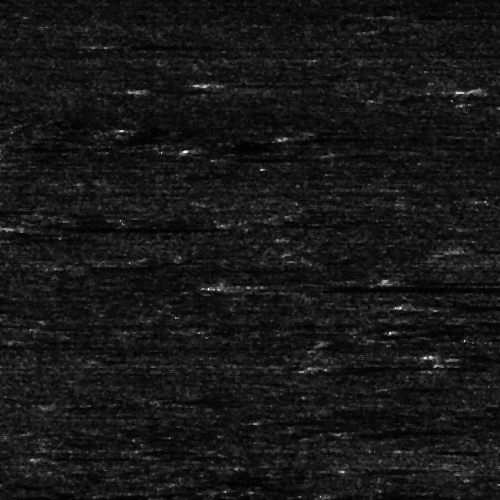object: (114, 137, 301, 156), (178, 282, 293, 291), (367, 300, 460, 311), (416, 244, 500, 253), (0, 219, 65, 230), (172, 78, 255, 85), (448, 83, 500, 92), (263, 132, 316, 137), (393, 277, 434, 282), (290, 364, 331, 367), (79, 41, 110, 44), (0, 233, 6, 240)
shadow: (12, 219, 175, 230), (208, 137, 297, 156), (236, 282, 414, 291), (414, 300, 500, 311), (0, 233, 95, 240), (214, 78, 302, 85), (290, 132, 381, 137), (414, 277, 500, 282), (311, 364, 450, 367), (462, 244, 500, 253), (485, 83, 500, 92), (95, 41, 137, 44)
